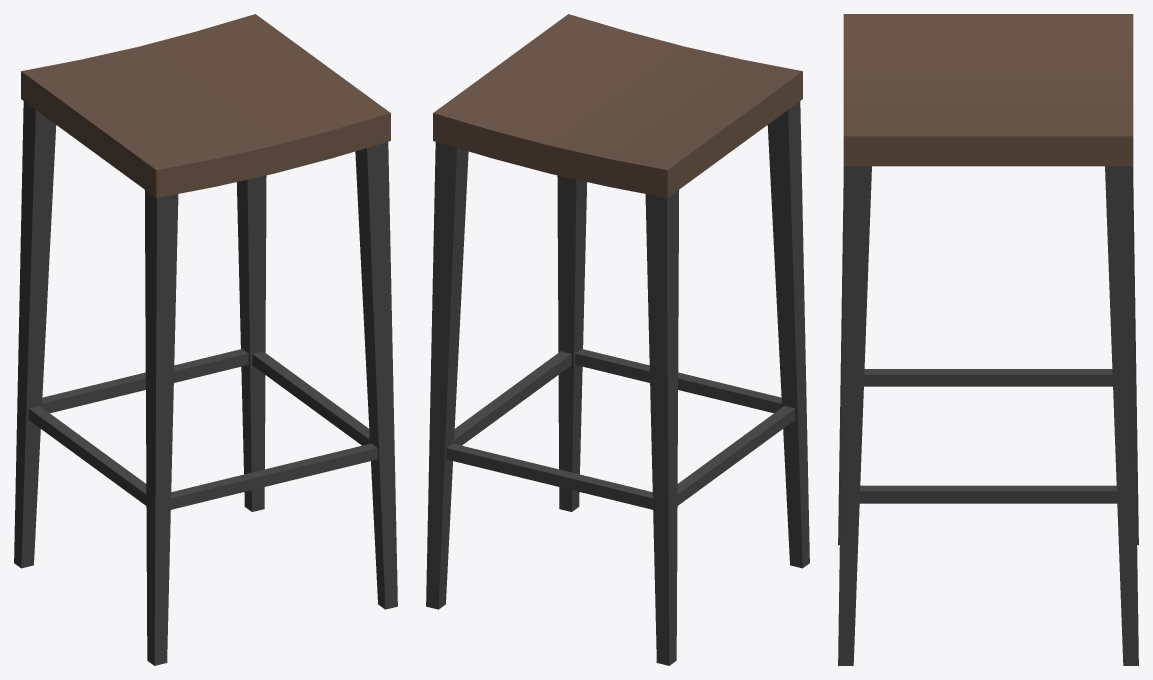
The model's file is Chair_01_C3.fbx.
3 views of the same model, side by side, from view 1: azimuth 30°, elevation 25°; view 2: azimuth 150°, elevation 25°; view 3: azimuth 270°, elevation 25° (orthographic). The views are drawn at different scales.
Visible parts, largest first — view 1: Chair_01_C3; view 2: Chair_01_C3; view 3: Chair_01_C3.
Boxes of the visible parts, x1,y1,x2,y2 form: Chair_01_C3: [14, 14, 397, 665]; Chair_01_C3: [426, 14, 809, 665]; Chair_01_C3: [838, 14, 1138, 665].
Size of the model in its own units: 33.75 by 65.29 by 33.75.
